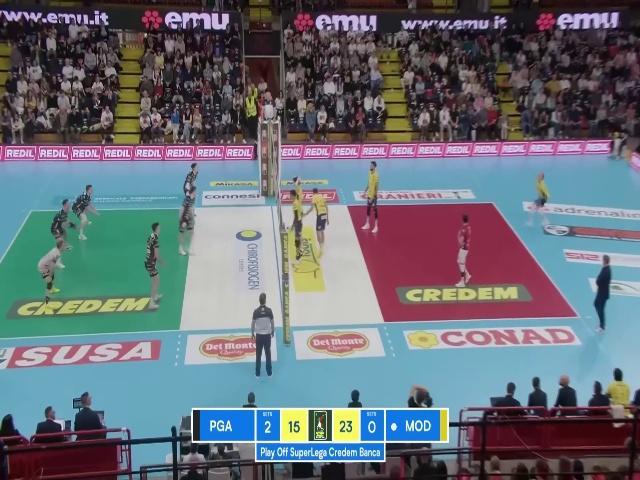volleyball court: (0, 200, 578, 342)
